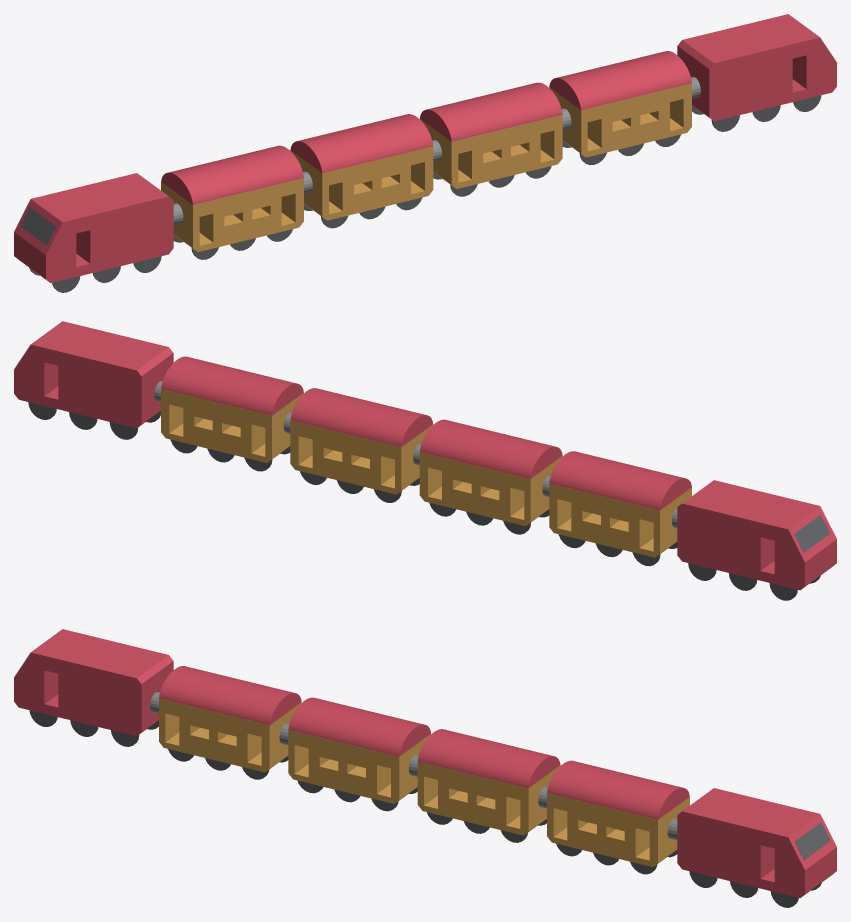
File: Train.glb
3 renders of one model, top to bottom at view 1: azimuth 30°, elevation 25°; view 2: azimuth 150°, elevation 25°; view 3: azimuth 330°, elevation 25°, orthographic.
Visible parts, largest first — view 1: Mesh_Mesh_head_geo.001_lambert2SG.001; view 2: Mesh_Mesh_head_geo.001_lambert2SG.001; view 3: Mesh_Mesh_head_geo.001_lambert2SG.001.
Boxes of the visible parts, bbox=[...] form: Mesh_Mesh_head_geo.001_lambert2SG.001: bbox=[14, 14, 836, 292]; Mesh_Mesh_head_geo.001_lambert2SG.001: bbox=[14, 321, 836, 600]; Mesh_Mesh_head_geo.001_lambert2SG.001: bbox=[14, 629, 836, 907].
Bounding box in the file's own units: 428 × 41 × 31.
